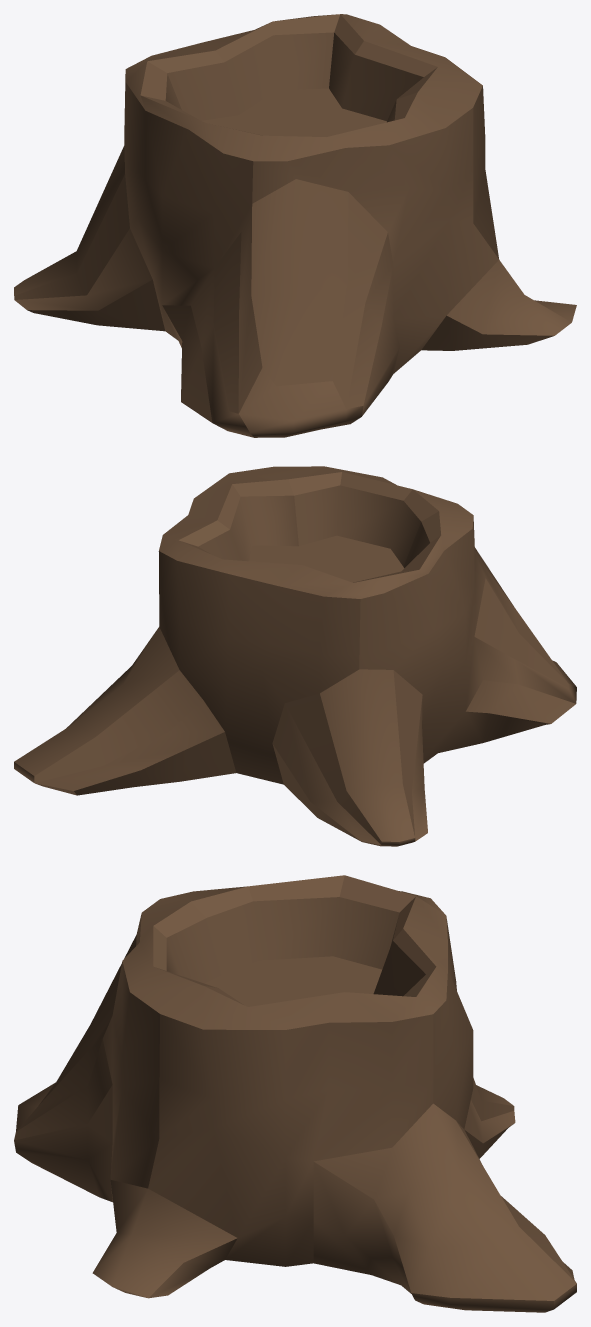
The model's file is stump2.fbx.
3 renders of one model, top to bottom at view 1: azimuth 30°, elevation 25°; view 2: azimuth 150°, elevation 25°; view 3: azimuth 270°, elevation 25°, orthographic. The views are drawn at different scales.
Visible parts, largest first — view 1: Stump_02; view 2: Stump_02; view 3: Stump_02.
Part boxes in pixels (left/top/right/bottom): Stump_02: left=14, top=14, right=576, bottom=437; Stump_02: left=14, top=466, right=576, bottom=846; Stump_02: left=14, top=875, right=576, bottom=1312.
Bounding box in the file's own units: 78.63 × 44.13 × 86.81.
